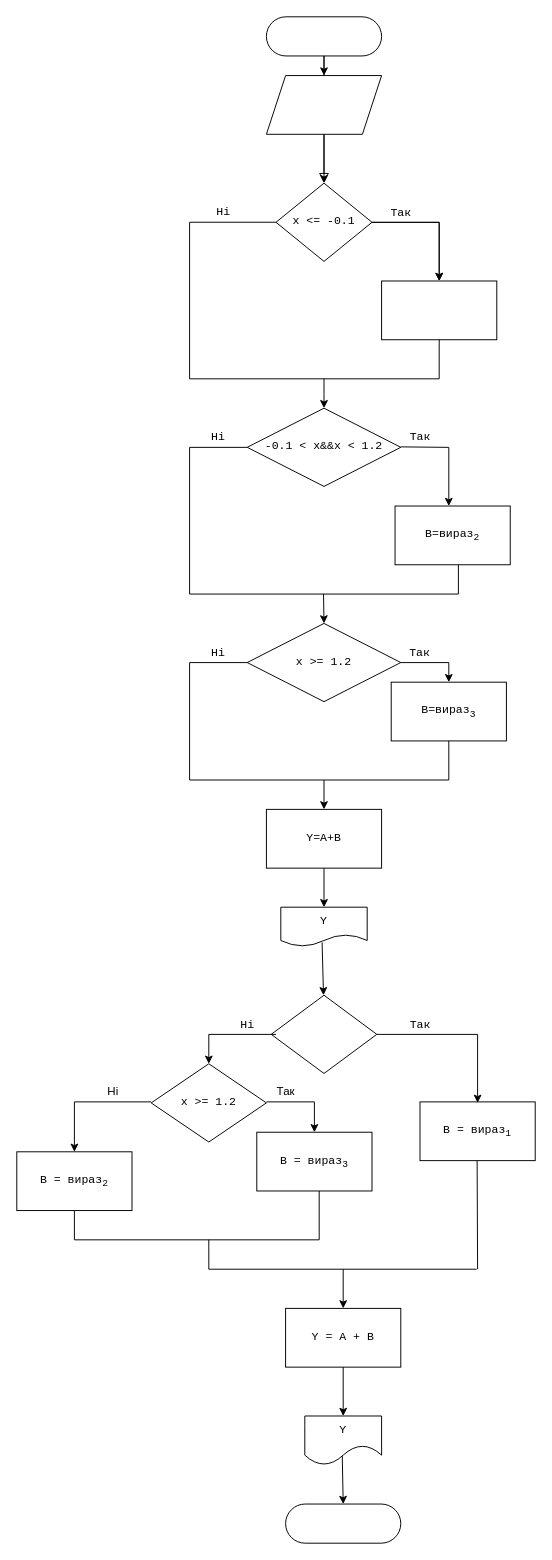
Image size: 552x1560. Some labels were removed from this diagram. The box of each missing label's shape, as (x1, y1, x2, y2) in pixels:
x <= 0.1: (270, 994, 377, 1073)
В=вираз 1: (381, 280, 497, 340)
Значення Х: (265, 75, 382, 134)
кінець програми: (285, 1503, 401, 1543)
Початок роботи програми: (265, 16, 382, 56)
